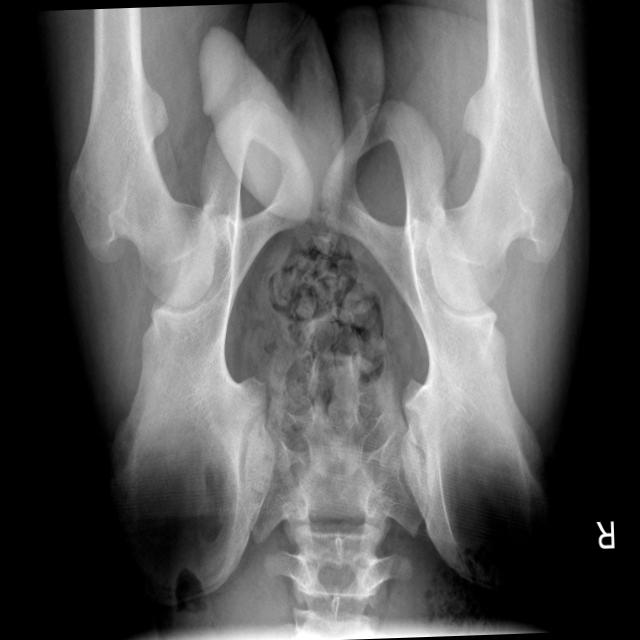normal-left: (66, 6, 216, 306)
normal-right: (424, 0, 573, 311)
